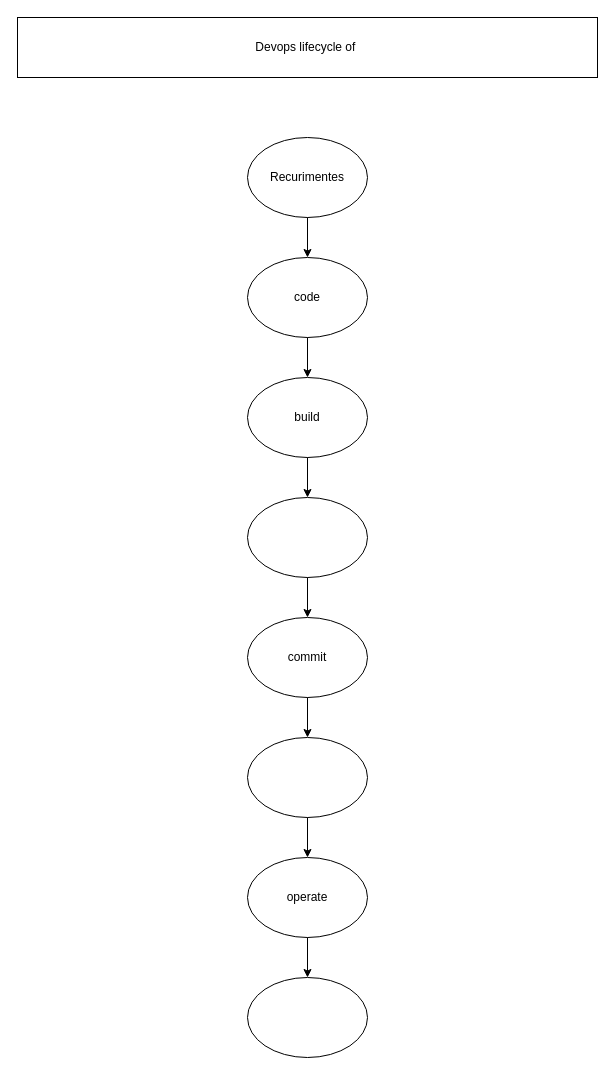
Image size: 615x1075. Some labels were removed from this diagram. Here are the shapes that lost their labels. From the top down, the box of each, then its label:
(246, 496, 368, 578): upload file in repositories
(246, 736, 368, 818): deploy
(246, 976, 368, 1058): Monitors
